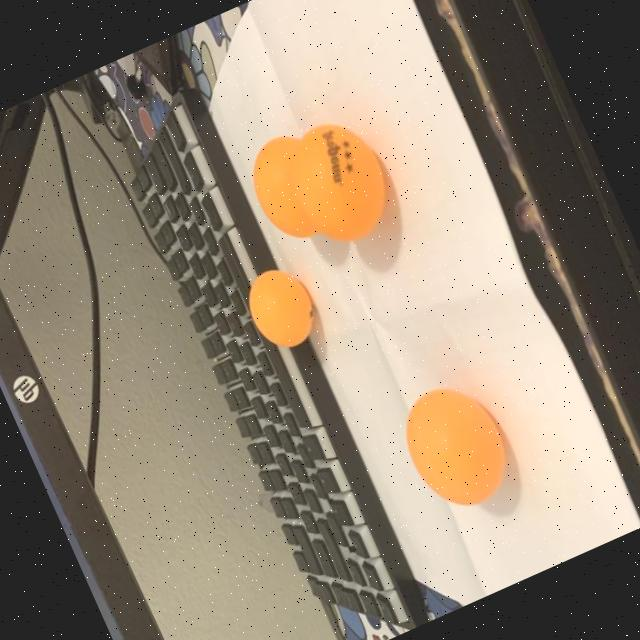ping-pong-ball: (382, 364, 530, 532), (265, 100, 409, 262), (234, 121, 350, 260), (230, 254, 330, 364)
